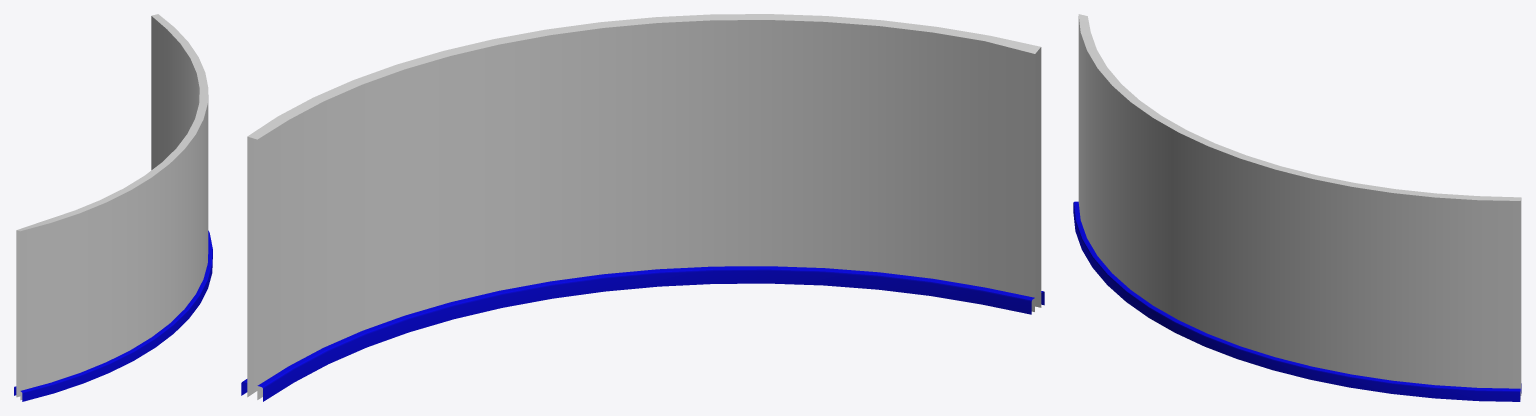
Rendered from CurvedWallLarge.fbx.
3 views of the same model, side by side, from view 1: azimuth 30°, elevation 25°; view 2: azimuth 150°, elevation 25°; view 3: azimuth 270°, elevation 25° (orthographic). The views are drawn at different scales.
Parts seen in each view (by area): view 1: Wall, Trim; view 2: Wall, Trim; view 3: Wall, Trim.
Boxes of the visible parts, bbox=[...] form: Wall: bbox=[16, 14, 208, 400]; Trim: bbox=[14, 230, 212, 401]; Wall: bbox=[247, 14, 1041, 399]; Trim: bbox=[241, 266, 1044, 401]; Wall: bbox=[1078, 14, 1521, 399]; Trim: bbox=[1073, 201, 1521, 401].
Bounding box in the file's own units: 24.54 × 12.01 × 24.56.
